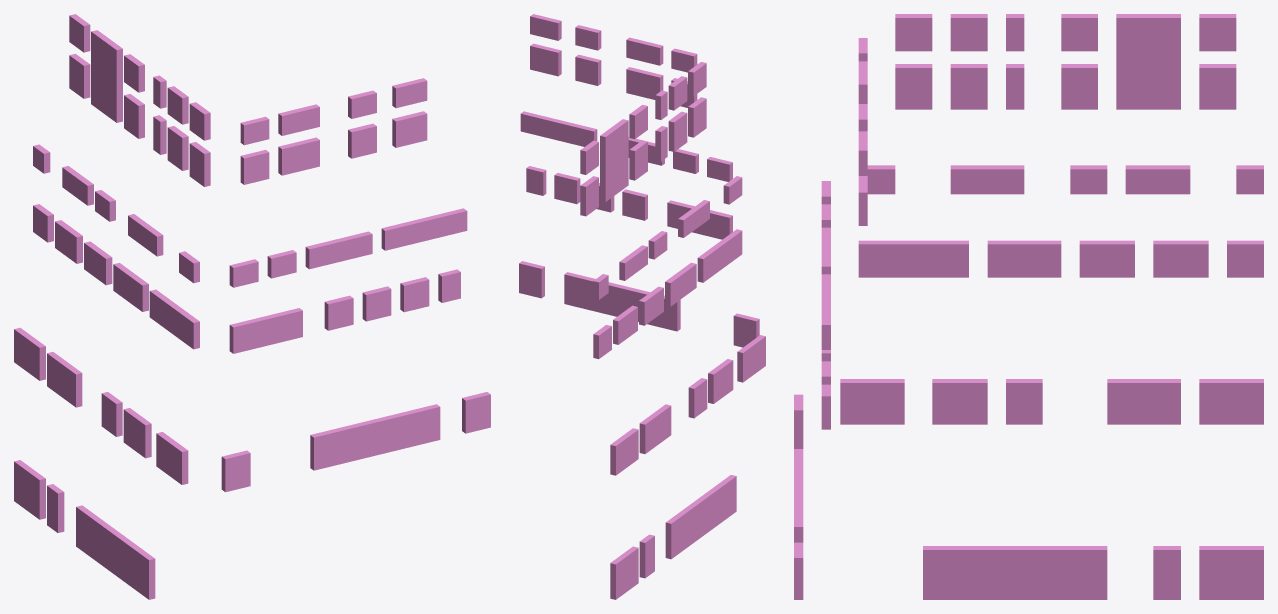
The model's file is Street1-2.obj.
3 renders of one model, left to right at view 1: azimuth 30°, elevation 25°; view 2: azimuth 150°, elevation 25°; view 3: azimuth 270°, elevation 25°, orthographic. The views are drawn at different scales.
Size of the model in its own units: 4.6 by 7.3 by 5.1.
Materials: 1 (1 with a texture image).
